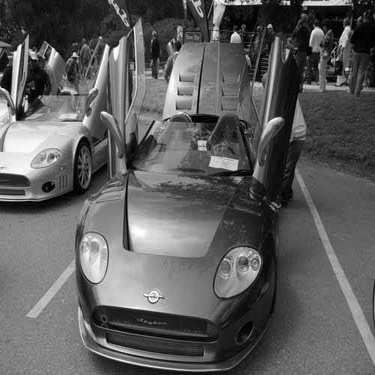car: (34, 27, 316, 373), (1, 23, 160, 220), (1, 40, 46, 160)
